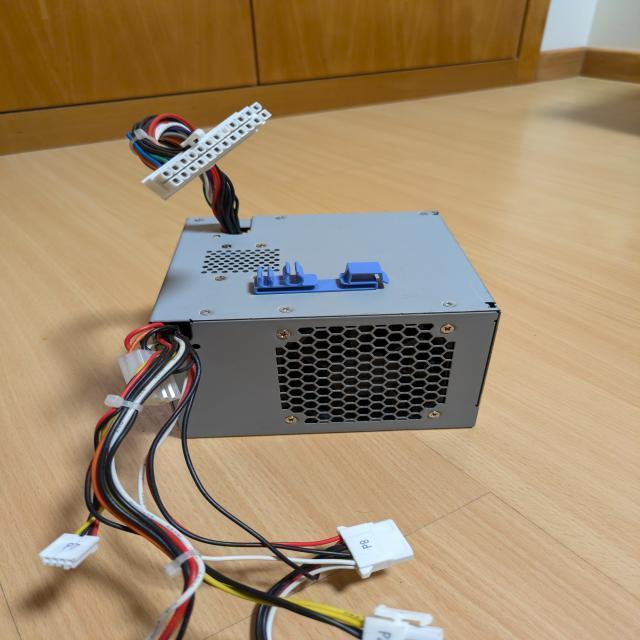PSU: (146, 212, 504, 440)
